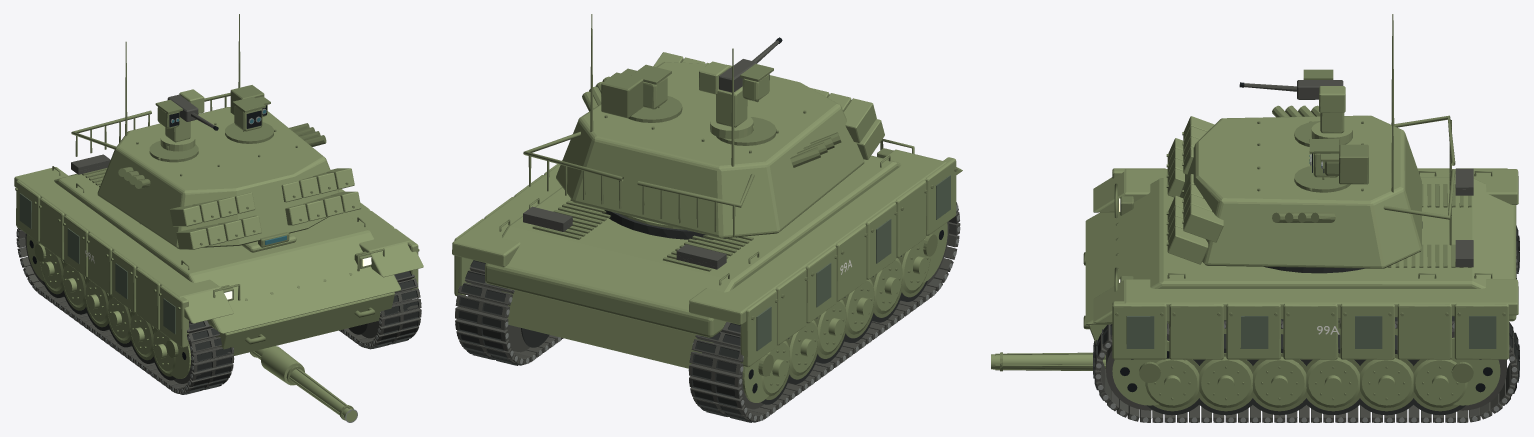
File: china.glb
3 renders of one model, left to right at view 1: azimuth 30°, elevation 25°; view 2: azimuth 150°, elevation 25°; view 3: azimuth 270°, elevation 25°, orthographic. The views are drawn at different scales.
Visible parts, largest first — view 1: body, turret, tracks, cannon; view 2: body, turret, tracks; view 3: body, turret, tracks, cannon.
Part boxes in pixels (bbox=[...]): body: bbox=[14, 154, 423, 355]; turret: bbox=[71, 14, 361, 249]; tracks: bbox=[16, 227, 421, 394]; cannon: bbox=[250, 346, 357, 422]; body: bbox=[452, 139, 962, 368]; turret: bbox=[523, 14, 884, 239]; tracks: bbox=[455, 202, 960, 422]; body: bbox=[1083, 168, 1518, 359]; turret: bbox=[1166, 14, 1455, 273]; tracks: bbox=[1093, 225, 1519, 422]; cannon: bbox=[991, 352, 1105, 371].
Bounding box in the file's own units: 3.82 × 4.27 × 6.12.
